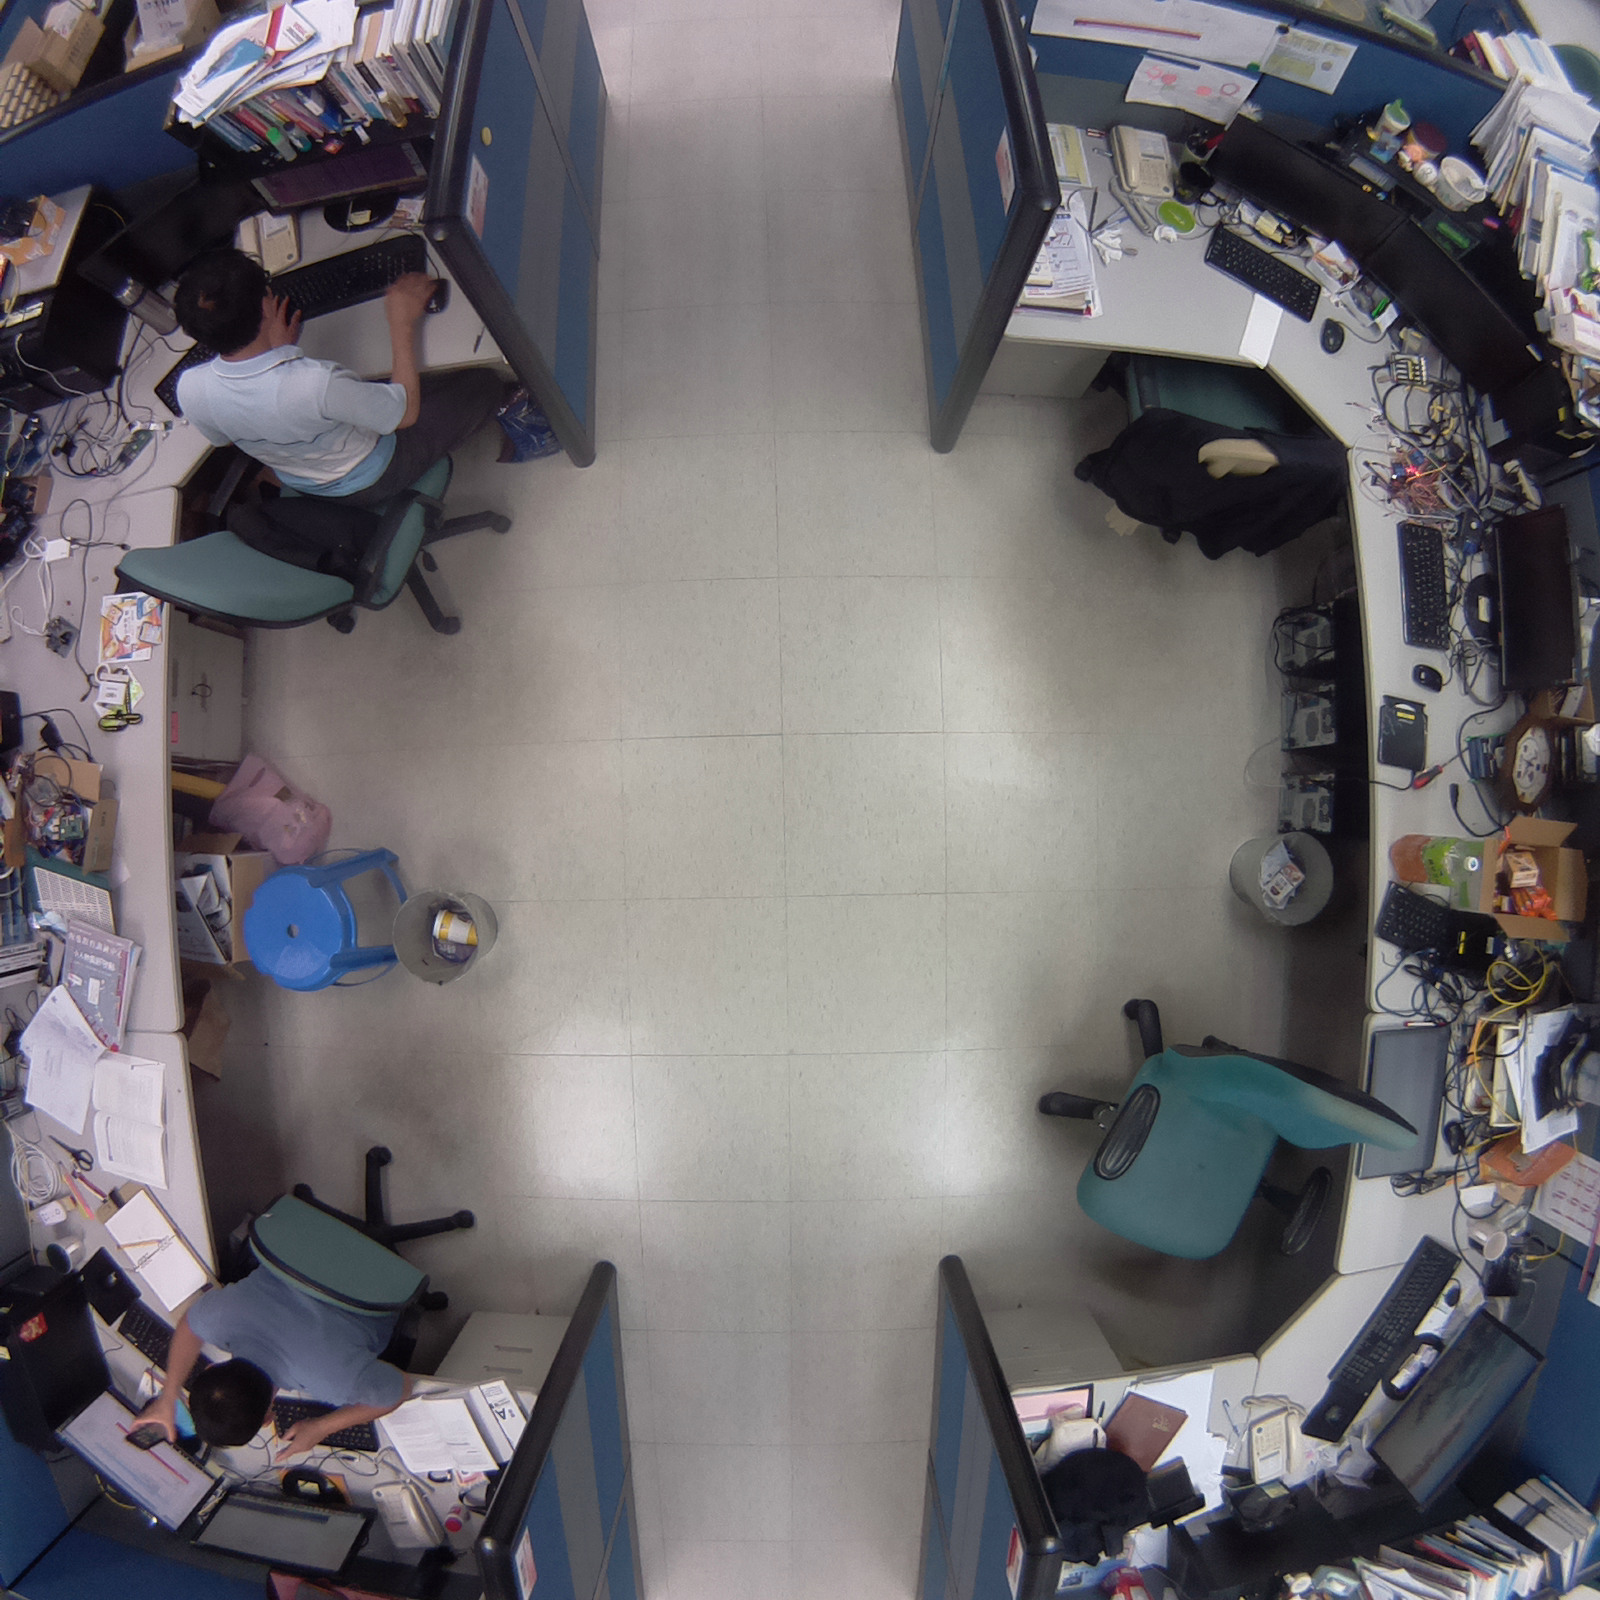chair: (1017, 973, 1432, 1273), (1065, 332, 1358, 575)
head: (163, 240, 283, 356), (179, 1351, 279, 1456)
sitting: (101, 247, 532, 660), (130, 1132, 504, 1467)
